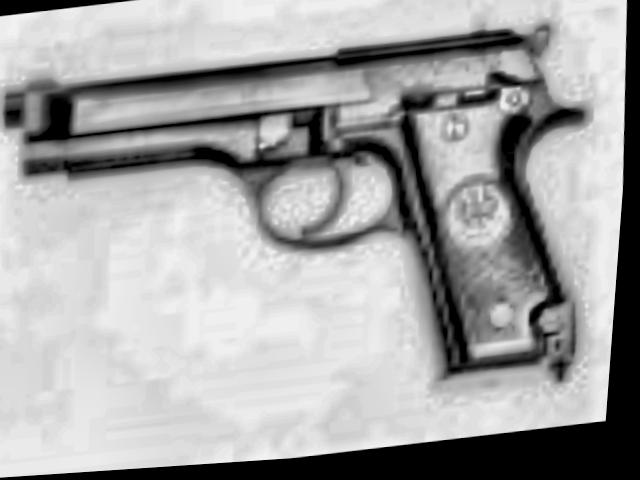pistol: (0, 5, 611, 439)
